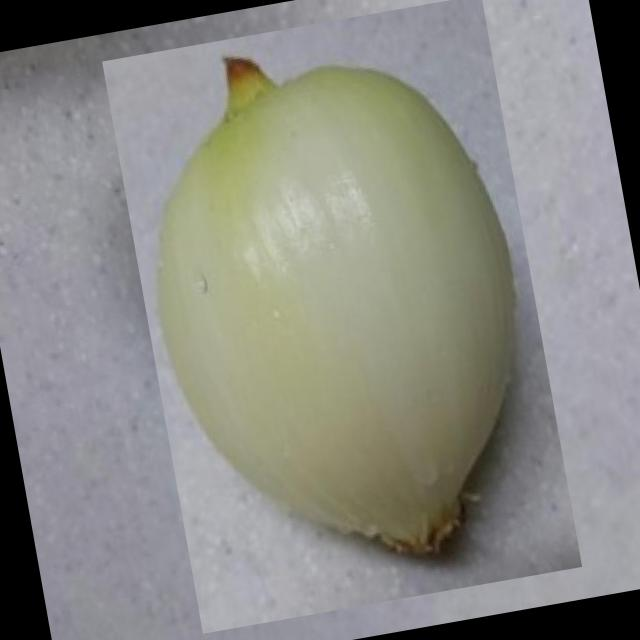Onion: (101, 0, 582, 634)
